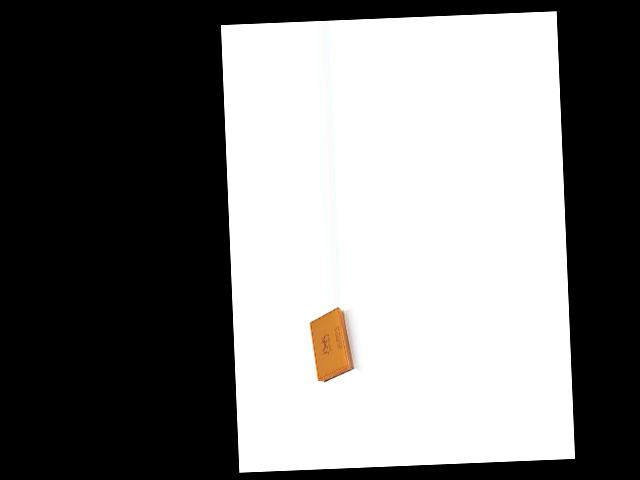chocolate: (307, 307, 360, 384)
